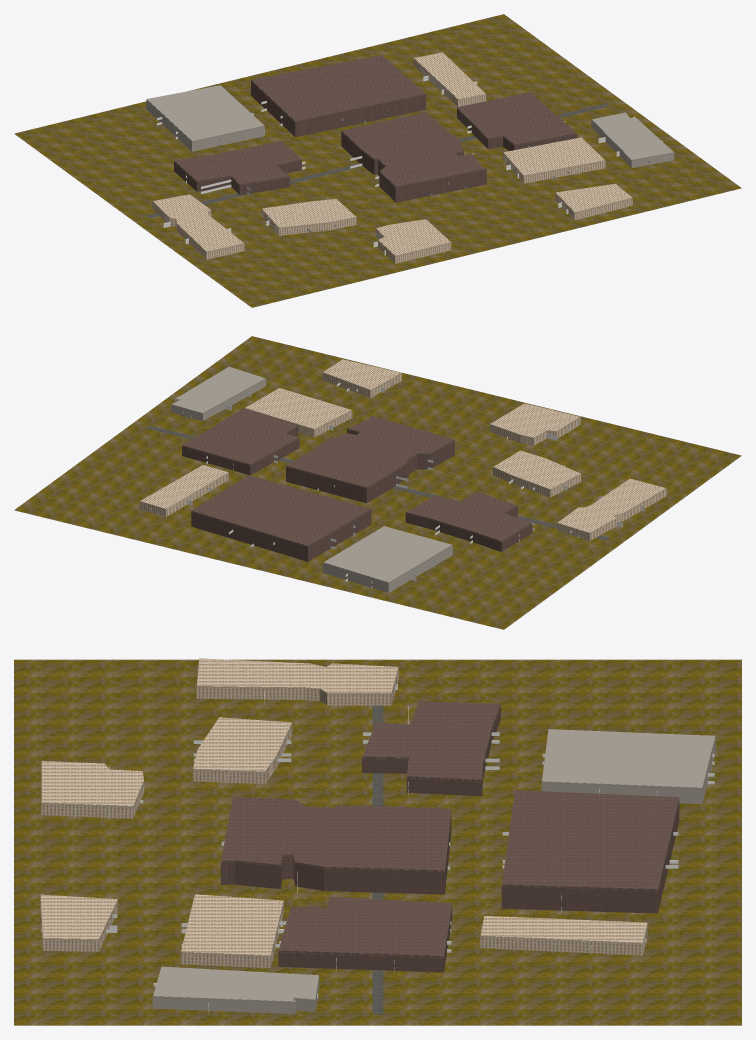
The model's file is bhu_demo.glb.
3 views of the same model, one above another, from view 1: azimuth 30°, elevation 25°; view 2: azimuth 150°, elevation 25°; view 3: azimuth 270°, elevation 25° (orthographic). The views are drawn at different scales.
Parts seen in each view (by area): view 1: SITE_GROUND, BHU-3D-003_PARAPET, BHU-3D-006_PARAPET, BHU-3D-002_PARAPET, BHU-3D-004_PARAPET, BHU-3D-011_PARAPET, BHU-3D-003_SHELL, BHU-3D-006_SHELL, BHU-3D-010_PARAPET, BHU-3D-008_PARAPET, BHU-3D-007_PARAPET, BHU-3D-005_PARAPET (+14 smaller); view 2: SITE_GROUND, BHU-3D-003_PARAPET, BHU-3D-006_PARAPET, BHU-3D-002_PARAPET, BHU-3D-004_PARAPET, BHU-3D-011_PARAPET, BHU-3D-003_SHELL, BHU-3D-006_SHELL, BHU-3D-010_PARAPET, BHU-3D-008_PARAPET, BHU-3D-007_PARAPET, BHU-3D-005_PARAPET (+13 smaller); view 3: SITE_GROUND, BHU-3D-003_PARAPET, BHU-3D-006_PARAPET, BHU-3D-002_PARAPET, BHU-3D-004_PARAPET, BHU-3D-011_PARAPET, BHU-3D-006_SHELL, BHU-3D-010_PARAPET, BHU-3D-008_PARAPET, BHU-3D-007_PARAPET, BHU-3D-003_SHELL, BHU-3D-005_PARAPET (+14 smaller).
Part boxes in pixels (box(x1,y1,x2,y2)): SITE_GROUND: box(14, 14, 741, 307); BHU-3D-003_PARAPET: box(251, 55, 425, 121); BHU-3D-006_PARAPET: box(341, 112, 486, 187); BHU-3D-002_PARAPET: box(146, 85, 264, 141); BHU-3D-004_PARAPET: box(457, 92, 576, 145); BHU-3D-011_PARAPET: box(174, 140, 301, 184); BHU-3D-003_SHELL: box(251, 80, 426, 137); BHU-3D-006_SHELL: box(341, 131, 486, 202); BHU-3D-010_PARAPET: box(153, 194, 244, 251); BHU-3D-008_PARAPET: box(503, 137, 605, 175); BHU-3D-007_PARAPET: box(591, 112, 673, 160); BHU-3D-005_PARAPET: box(262, 199, 356, 227); SITE_GROUND: box(14, 336, 741, 629); BHU-3D-003_PARAPET: box(191, 475, 370, 546); BHU-3D-006_PARAPET: box(286, 415, 454, 487); BHU-3D-002_PARAPET: box(323, 526, 451, 582); BHU-3D-004_PARAPET: box(182, 408, 298, 465); BHU-3D-011_PARAPET: box(406, 491, 531, 541); BHU-3D-003_SHELL: box(191, 510, 371, 561); BHU-3D-006_SHELL: box(286, 429, 454, 503); BHU-3D-010_PARAPET: box(557, 478, 666, 533); BHU-3D-008_PARAPET: box(245, 388, 351, 429); BHU-3D-007_PARAPET: box(171, 366, 265, 413); BHU-3D-005_PARAPET: box(493, 450, 580, 489); SITE_GROUND: box(14, 659, 741, 1025); BHU-3D-003_PARAPET: box(502, 790, 679, 890); BHU-3D-006_PARAPET: box(221, 796, 451, 871); BHU-3D-002_PARAPET: box(542, 729, 715, 788); BHU-3D-004_PARAPET: box(278, 896, 452, 956); BHU-3D-011_PARAPET: box(362, 701, 500, 780); BHU-3D-006_SHELL: box(220, 810, 451, 894); BHU-3D-010_PARAPET: box(196, 658, 398, 693); BHU-3D-008_PARAPET: box(181, 894, 283, 956); BHU-3D-007_PARAPET: box(153, 966, 318, 1002); BHU-3D-003_SHELL: box(501, 798, 679, 913); BHU-3D-005_PARAPET: box(193, 717, 291, 772).
Size of the model in its own units: 647 by 20.1 by 544.
8 materials, 6 textured.
